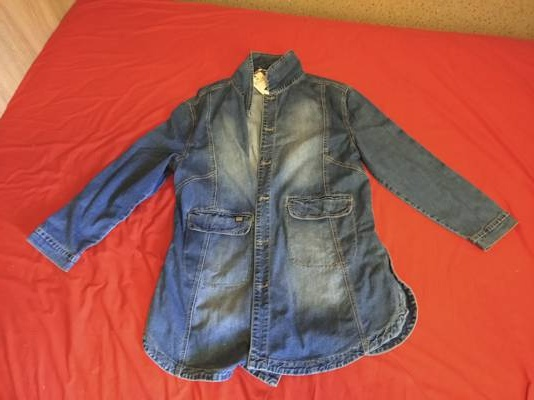Blazer: (21, 58, 510, 391)
